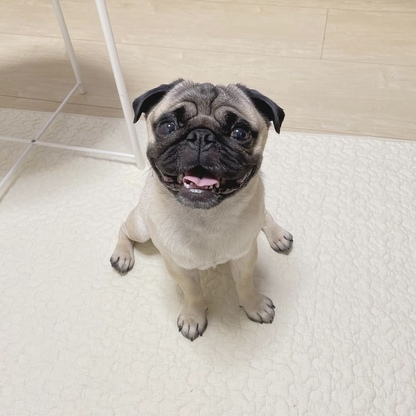Pug: (107, 75, 297, 343)
